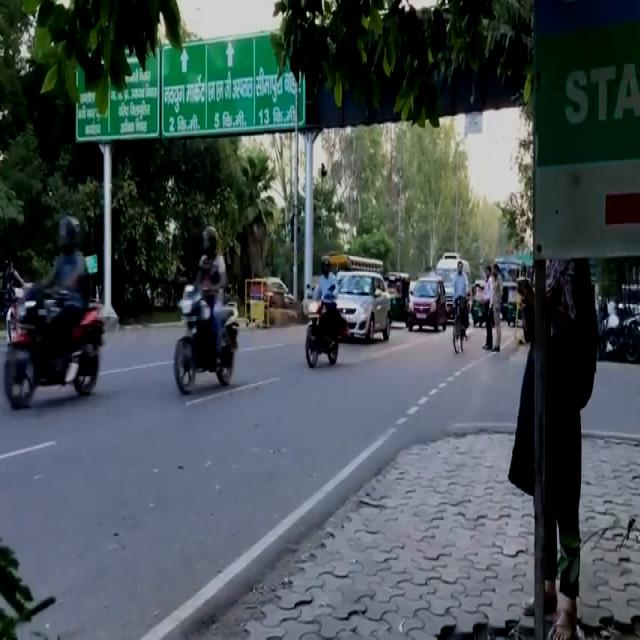MOTORCYCLE: (3, 277, 105, 416), (172, 274, 240, 398), (306, 299, 344, 369)
